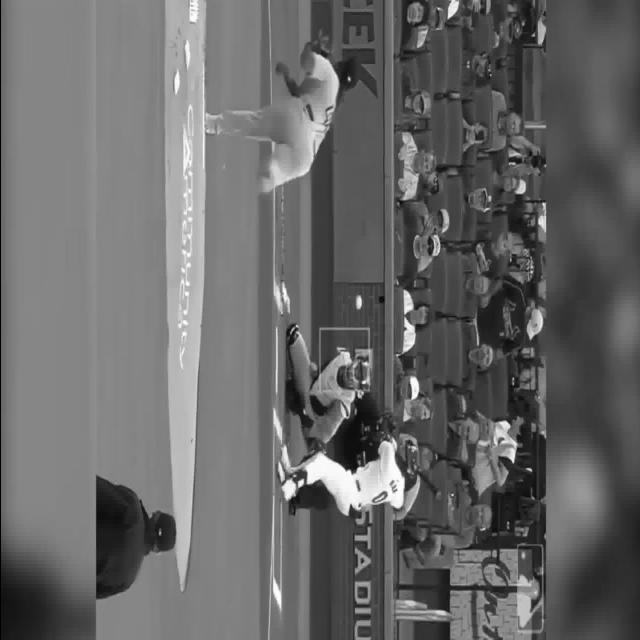base: (272, 324, 278, 394)
baseball: (354, 294, 361, 310)
baseball_glove: (283, 378, 305, 418), (310, 34, 330, 60)
bat: (416, 469, 442, 499)
shoe: (276, 464, 292, 504), (256, 165, 275, 194), (281, 443, 293, 478), (202, 114, 214, 136)
